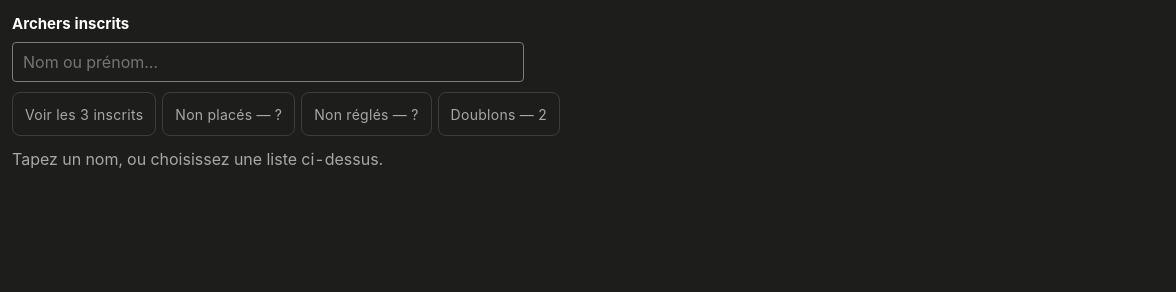
signalement de doublon sur la ligne › CA — la fiche rapprochée porte un signalement cliquable, qui NOMME le niveau
Click the button "Voir les 3 inscrits". click: coordinates (84, 114)
box: [12,92,156,136]
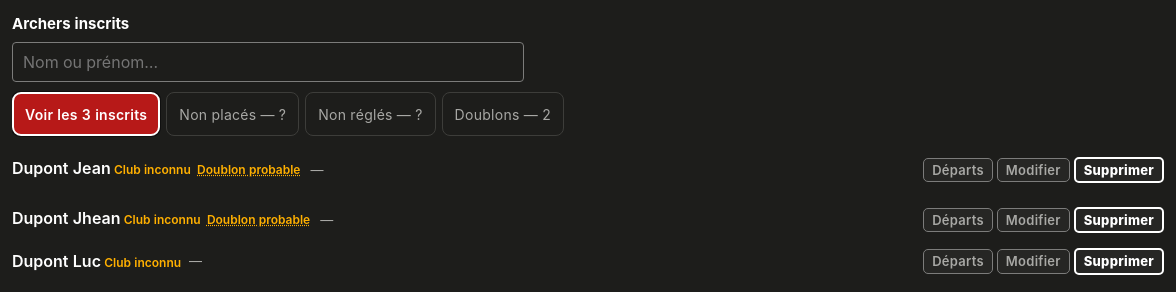
Result: the number of buttons "Doublon probable" is 2 at [195,148,302,192]; [205,198,312,242]
